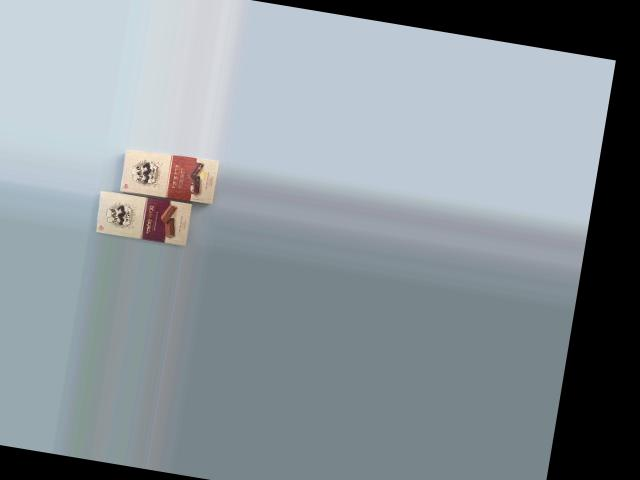chocolate: (113, 143, 221, 215)
